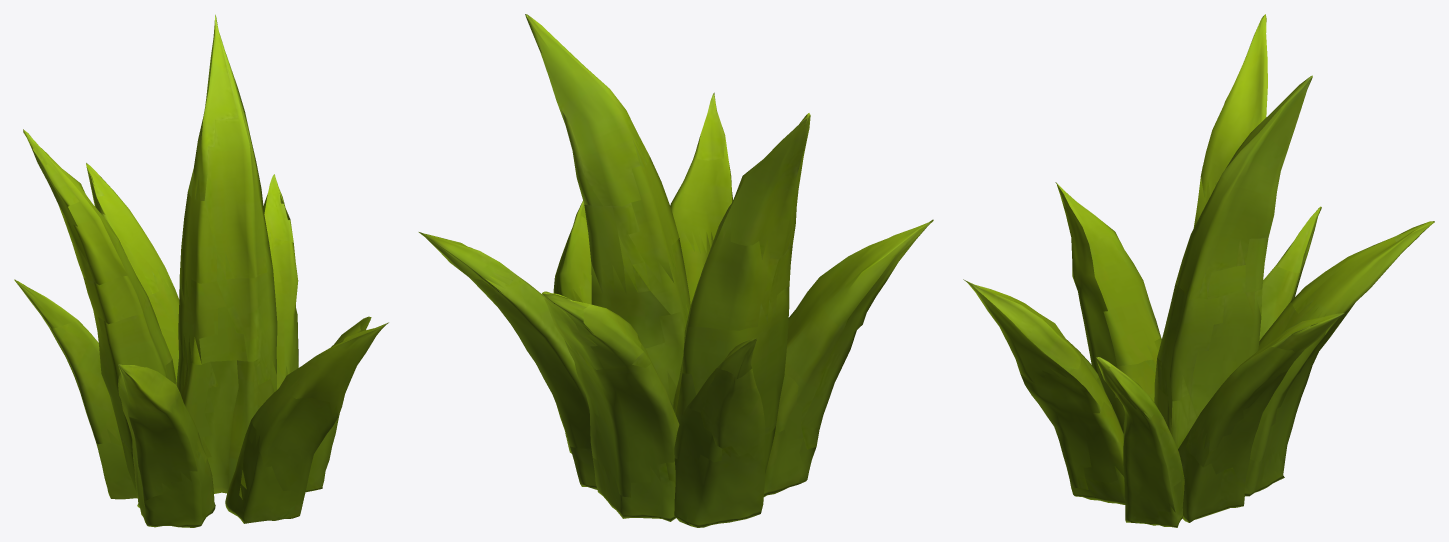
The picture shows the model from 3 angles, left to right: view 1: azimuth 30°, elevation 25°; view 2: azimuth 150°, elevation 25°; view 3: azimuth 270°, elevation 25°; orthographic projection. The views are drawn at different scales.
Parts seen in each view (by area): view 1: mesh_node; view 2: mesh_node; view 3: mesh_node.
Part boxes in pixels (left/top/right/bottom): mesh_node: left=14, top=14, right=388, bottom=527; mesh_node: left=418, top=14, right=933, bottom=527; mesh_node: left=963, top=14, right=1434, bottom=527.
Size of the model in its own units: 0.7383 by 0.9981 by 0.9746.
1 material, 1 textured.
